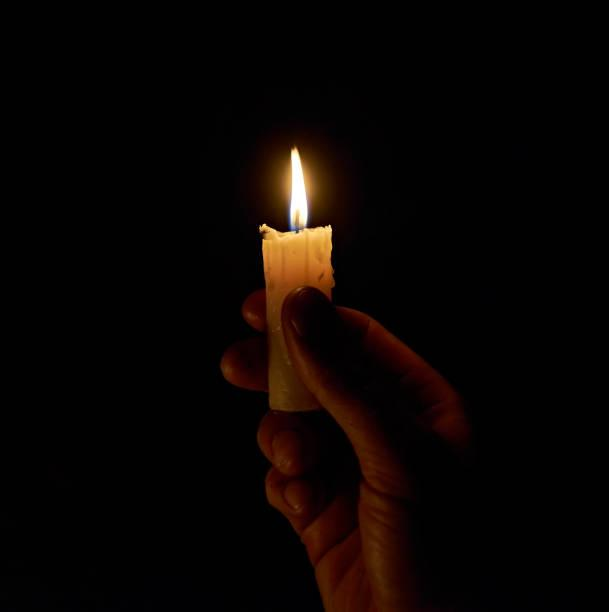Fire: (283, 141, 314, 226)
